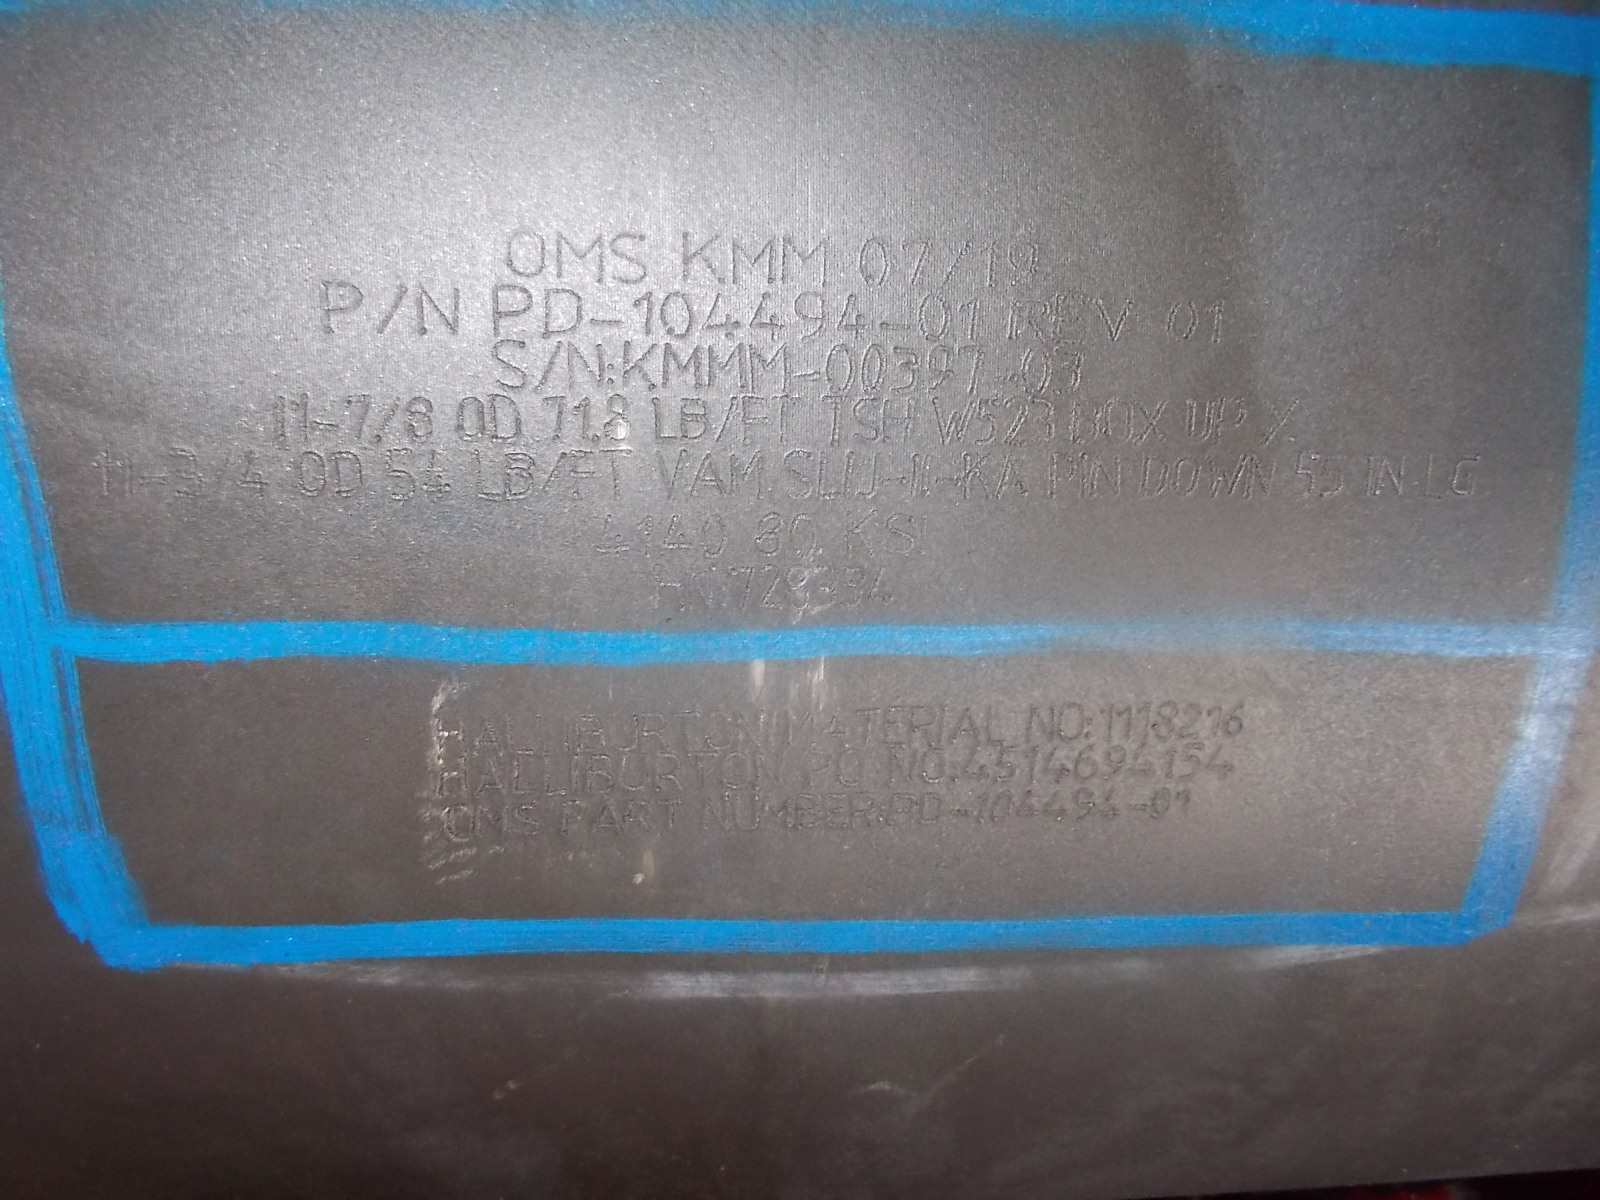character: (314, 274, 367, 343), (673, 228, 729, 289), (535, 276, 585, 342), (779, 231, 835, 287), (1255, 389, 1306, 451), (551, 229, 609, 284), (414, 279, 465, 340), (165, 440, 208, 511), (483, 282, 534, 339), (729, 232, 780, 289), (500, 224, 551, 280), (609, 229, 656, 287), (1090, 290, 1138, 348), (481, 337, 530, 392), (934, 234, 980, 292), (925, 395, 974, 449), (462, 444, 503, 509), (852, 233, 896, 292), (698, 289, 747, 342), (373, 279, 414, 340), (897, 227, 936, 292), (787, 287, 831, 344), (704, 342, 751, 395), (835, 505, 882, 558), (1049, 287, 1090, 348), (380, 446, 418, 508), (504, 444, 539, 509), (658, 343, 704, 392), (289, 447, 326, 508), (326, 447, 367, 504), (1007, 292, 1052, 343), (1160, 291, 1203, 344), (564, 338, 605, 393), (1136, 393, 1179, 445), (1004, 234, 1041, 295), (750, 340, 790, 395), (485, 392, 524, 447), (598, 446, 635, 505), (1202, 450, 1245, 500), (591, 512, 631, 565), (239, 442, 273, 504), (656, 287, 697, 339), (747, 289, 786, 342), (420, 444, 452, 507), (990, 458, 1033, 505), (620, 337, 656, 392), (831, 287, 871, 339), (1448, 453, 1489, 500), (916, 291, 954, 343), (1099, 395, 1136, 446), (818, 393, 854, 446), (650, 447, 687, 500), (688, 453, 728, 500), (530, 338, 564, 395), (1089, 451, 1128, 500), (1214, 393, 1250, 447), (450, 392, 488, 442), (782, 447, 815, 505), (401, 389, 435, 445), (922, 344, 957, 397), (824, 342, 858, 396), (882, 397, 918, 447), (659, 513, 695, 563), (209, 432, 236, 502), (568, 445, 598, 505), (889, 342, 922, 397), (729, 453, 767, 500), (1053, 347, 1090, 396), (741, 392, 772, 449), (774, 392, 805, 449), (430, 759, 472, 800), (955, 292, 990, 343), (469, 707, 501, 761), (1245, 449, 1279, 500), (858, 342, 889, 397), (753, 558, 785, 614), (1020, 343, 1053, 396), (643, 395, 678, 444), (1031, 400, 1063, 453), (882, 511, 917, 560), (433, 712, 469, 761), (503, 708, 537, 759), (603, 708, 640, 755), (339, 391, 372, 442), (1063, 400, 1099, 446), (949, 702, 984, 749), (1002, 396, 1031, 453), (1138, 451, 1169, 503), (472, 803, 511, 845), (535, 393, 568, 442), (678, 395, 711, 444), (750, 509, 782, 558), (1204, 291, 1232, 349), (602, 391, 632, 444), (976, 234, 1003, 295), (1169, 453, 1201, 503), (1024, 700, 1058, 746), (813, 560, 842, 614), (790, 512, 824, 557), (1039, 742, 1073, 788), (372, 389, 401, 442), (957, 344, 986, 397), (702, 708, 737, 751), (1377, 454, 1409, 502), (712, 395, 740, 449), (854, 393, 882, 447), (867, 563, 894, 618), (1186, 393, 1214, 445), (697, 514, 729, 560), (886, 790, 922, 831), (974, 396, 1002, 449), (590, 799, 625, 841), (260, 392, 289, 442), (474, 758, 508, 800), (1204, 741, 1238, 784), (117, 441, 141, 502), (794, 789, 826, 833), (761, 789, 794, 833), (624, 795, 656, 839), (963, 447, 989, 502), (855, 451, 883, 503), (726, 563, 753, 615), (785, 558, 813, 610), (574, 708, 606, 754), (674, 708, 706, 754), (752, 749, 790, 787), (959, 745, 993, 787), (438, 803, 472, 845), (737, 705, 767, 751), (815, 453, 842, 505), (539, 447, 567, 498), (1046, 449, 1073, 499), (640, 710, 671, 754), (653, 751, 684, 795), (1322, 453, 1351, 500), (884, 746, 920, 785), (835, 747, 869, 788), (1421, 449, 1448, 500), (631, 513, 658, 565), (718, 749, 751, 790), (1151, 697, 1179, 746), (842, 560, 866, 616), (585, 753, 616, 795), (616, 753, 648, 795), (1296, 447, 1322, 500), (89, 445, 113, 500), (803, 747, 835, 788), (511, 803, 544, 843), (655, 795, 688, 836), (784, 703, 815, 745), (631, 287, 656, 339), (821, 708, 853, 749), (509, 758, 539, 799), (1057, 701, 1085, 746), (703, 793, 733, 834), (853, 703, 882, 746), (991, 740, 1020, 783), (985, 700, 1010, 749), (687, 751, 718, 790), (290, 388, 312, 442), (1070, 784, 1100, 824), (1039, 787, 1070, 827), (540, 755, 567, 800), (1178, 740, 1204, 785), (920, 746, 951, 784), (908, 705, 936, 747), (1221, 698, 1249, 741), (852, 790, 879, 833), (1130, 744, 1160, 783), (1099, 742, 1128, 783), (556, 799, 588, 834), (824, 790, 852, 832), (733, 793, 761, 833), (568, 393, 591, 442), (1073, 742, 1100, 784), (989, 789, 1015, 831), (537, 705, 557, 759), (921, 789, 949, 828), (883, 705, 908, 747), (583, 309, 627, 333), (1179, 697, 1203, 741), (1095, 697, 1115, 745), (1115, 701, 1136, 745), (1015, 789, 1039, 827), (1019, 745, 1039, 788), (1076, 447, 1091, 504), (1100, 784, 1121, 823), (1153, 783, 1174, 821), (917, 511, 934, 560), (842, 447, 855, 504), (1135, 698, 1151, 746), (918, 453, 934, 504), (1363, 449, 1377, 502), (1174, 787, 1196, 819), (135, 471, 169, 492), (1203, 703, 1221, 741), (974, 787, 989, 831), (790, 367, 824, 386), (307, 416, 341, 435), (558, 708, 571, 756), (568, 753, 581, 800), (879, 471, 908, 492), (936, 702, 949, 747), (908, 453, 920, 502), (1163, 747, 1178, 783), (932, 471, 960, 490), (876, 318, 910, 333), (944, 805, 973, 821), (1126, 800, 1148, 814), (1083, 715, 1094, 742), (605, 361, 614, 387), (878, 802, 887, 828), (951, 761, 961, 784), (591, 434, 600, 442)
